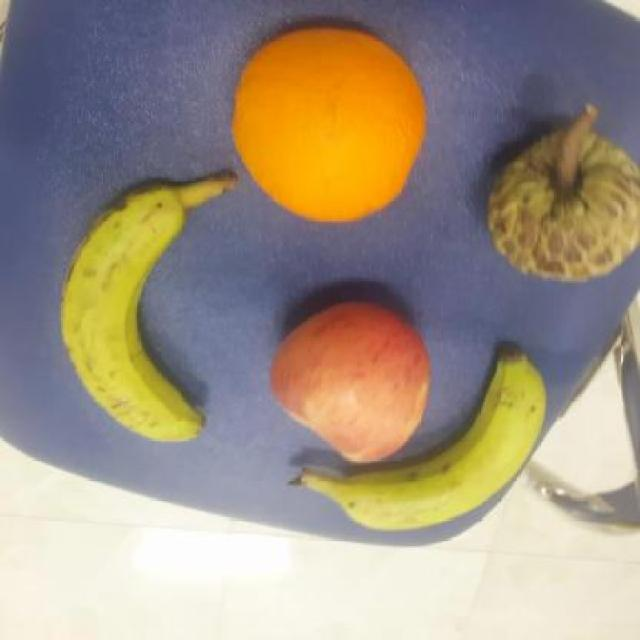apple: (262, 301, 436, 468)
banana: (55, 172, 202, 453), (344, 344, 548, 538)
oren: (233, 23, 424, 226)
sugar apple: (486, 122, 640, 286)
